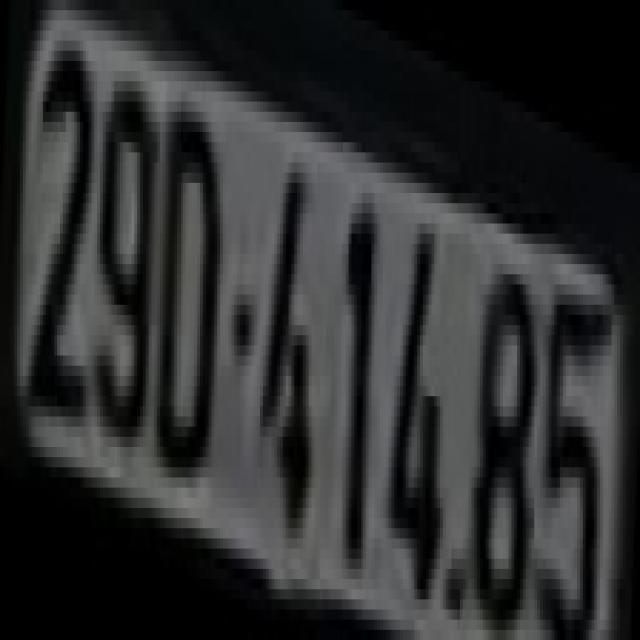1: (337, 193, 377, 579)
2: (28, 41, 92, 417)
4: (257, 152, 317, 548), (386, 213, 446, 600)
5: (542, 284, 608, 640)
8: (474, 264, 534, 630)
9: (94, 71, 154, 447)
D: (154, 91, 220, 488)
